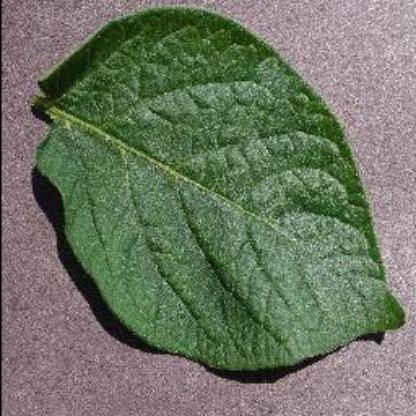Healthy-plant: (26, 5, 408, 376)
